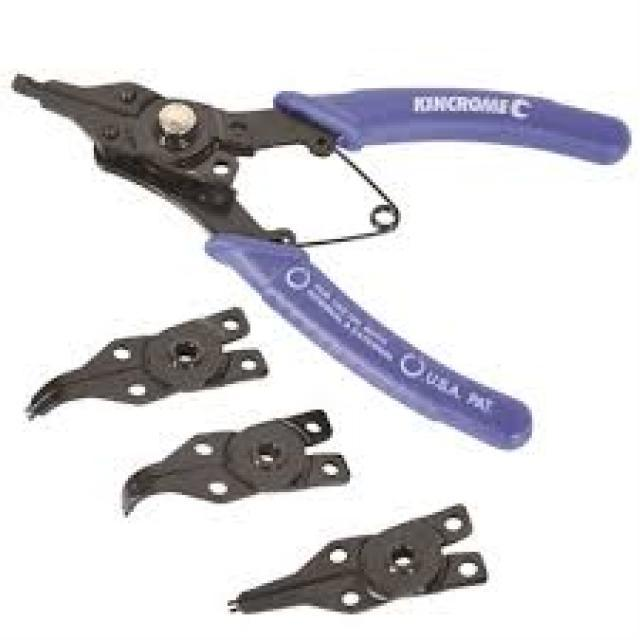pliers: (7, 59, 640, 461)
